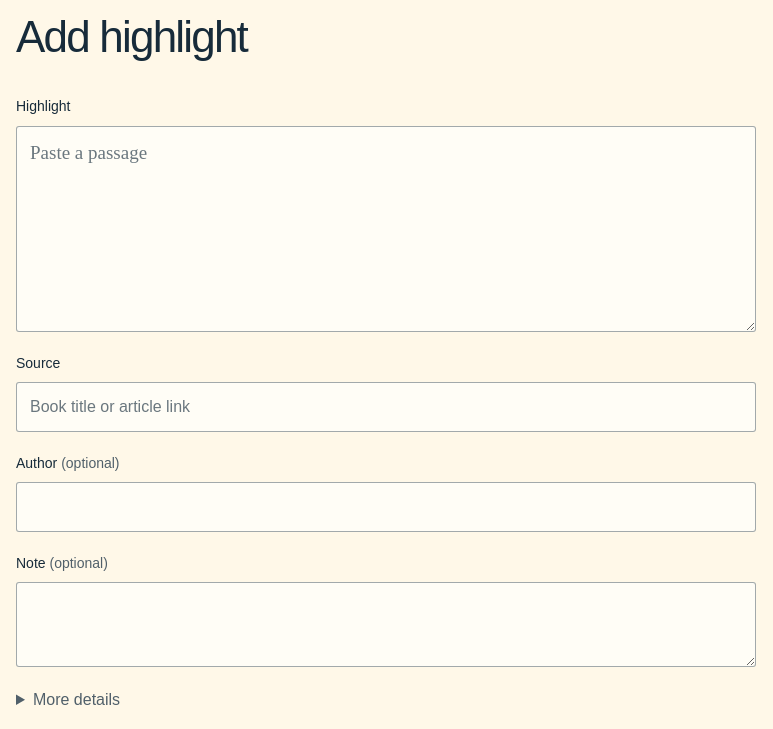
Test: fills article details without replacing a title typed while lookup is pending
Type "https://arenamag.com/articles/forward-deployed" into the field labelled "Source" at (386, 407), box [16,382,756,432]
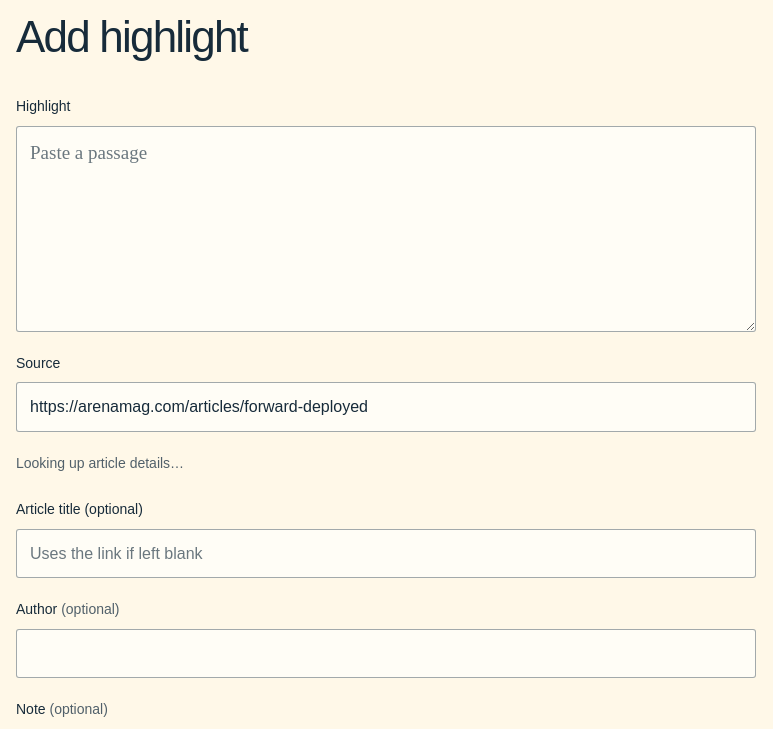
Type "My title" into the field labelled "Article title (optional)" at (386, 554), box [16,529,756,578]
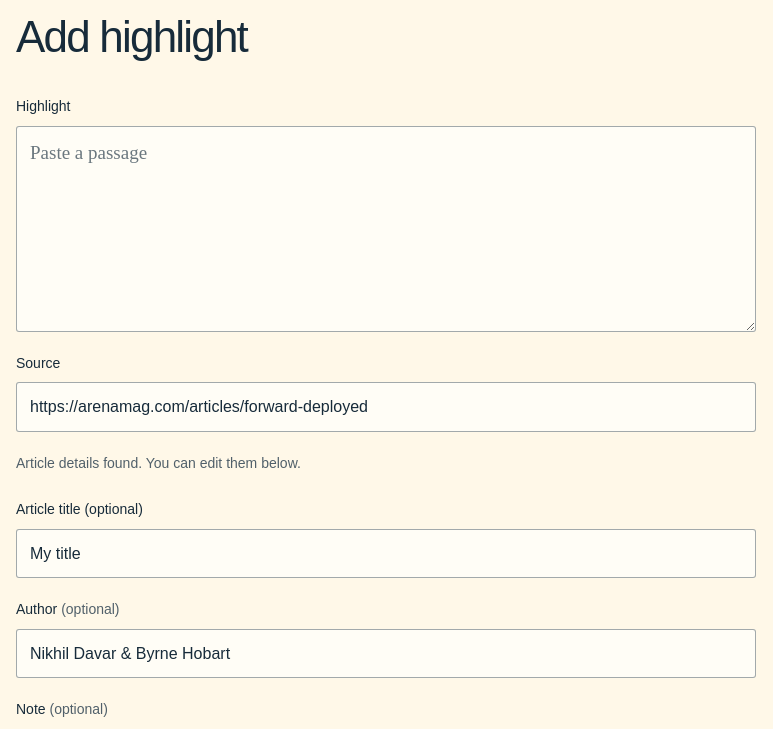
Check: the field labelled "Author (optional)" holds "Nikhil Davar & Byrne Hobart", box [16,629,756,678]
